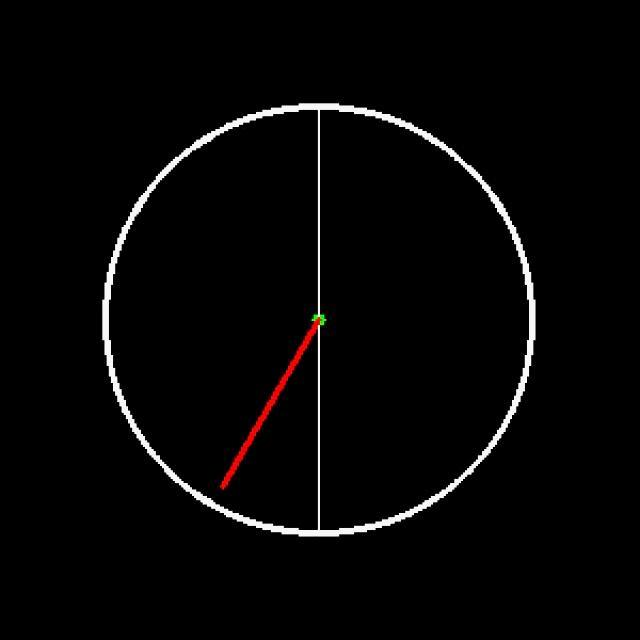Needle_Tip: (210, 418, 255, 511)
Needle_base: (288, 307, 346, 337)
